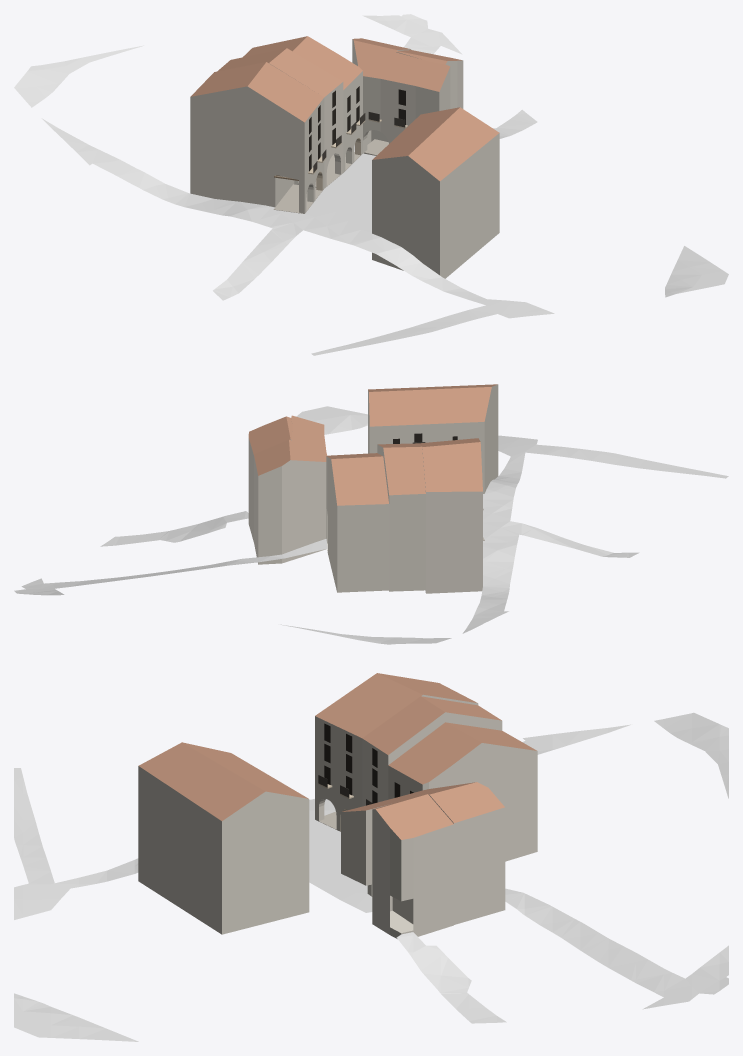
Rendered from ca_la_vila.glb.
3 renders of one model, top to bottom at view 1: azimuth 30°, elevation 25°; view 2: azimuth 150°, elevation 25°; view 3: azimuth 270°, elevation 25°, orthographic. The views are drawn at different scales.
Parts seen in each view (by area): view 1: CLV_suelo_trazado_revisado, CLV_Ayuntamiento.001, CLV_casa_NO_A.001, CLV_casa_NE.001, CLV_casa_NO_A_b, CLV_casa_NO_B.001, CLV_paso_Rosari, CLV_casa_Rosari, CLV_suelo_pasillo_CLV_casa_NO_A; view 2: CLV_suelo_trazado_revisado, CLV_casa_NO_A.001, CLV_casa_NO_B.001, CLV_casa_NE.001, CLV_Ayuntamiento.001, CLV_casa_NO_A_b, CLV_casa_Rosari; view 3: CLV_Ayuntamiento.001, CLV_suelo_trazado_revisado, CLV_casa_Rosari, CLV_casa_NO_B.001, CLV_casa_NO_A.001, CLV_casa_NE.001, CLV_casa_NO_A_b, CLV_paso_Rosari.
Part boxes in pixels (<box>): CLV_suelo_trazado_revisado: <box>14,14,728,355</box>; CLV_Ayuntamiento.001: <box>372,107,499,278</box>; CLV_casa_NO_A.001: <box>190,62,324,213</box>; CLV_casa_NE.001: <box>352,38,430,153</box>; CLV_casa_NO_A_b: <box>217,48,343,188</box>; CLV_casa_NO_B.001: <box>243,36,362,172</box>; CLV_paso_Rosari: <box>415,62,450,118</box>; CLV_casa_Rosari: <box>396,50,463,108</box>; CLV_suelo_pasillo_CLV_casa_NO_A: <box>273,184,323,213</box>; CLV_suelo_trazado_revisado: <box>14,406,728,644</box>; CLV_casa_NO_A.001: <box>419,438,482,593</box>; CLV_casa_NO_B.001: <box>326,453,389,592</box>; CLV_casa_NE.001: <box>254,424,327,564</box>; CLV_Ayuntamiento.001: <box>368,384,498,493</box>; CLV_casa_NO_A_b: <box>377,443,425,591</box>; CLV_casa_Rosari: <box>248,416,292,541</box>; CLV_Ayuntamiento.001: <box>138,742,309,934</box>; CLV_suelo_trazado_revisado: <box>14,712,728,1041</box>; CLV_casa_Rosari: <box>372,794,453,938</box>; CLV_casa_NO_B.001: <box>388,722,537,861</box>; CLV_casa_NO_A.001: <box>315,673,478,831</box>; CLV_casa_NE.001: <box>367,782,505,924</box>; CLV_casa_NO_A_b: <box>362,696,502,806</box>; CLV_paso_Rosari: <box>341,805,386,885</box>.
Bounding box in the file's own units: 60 × 22.02 × 77.
